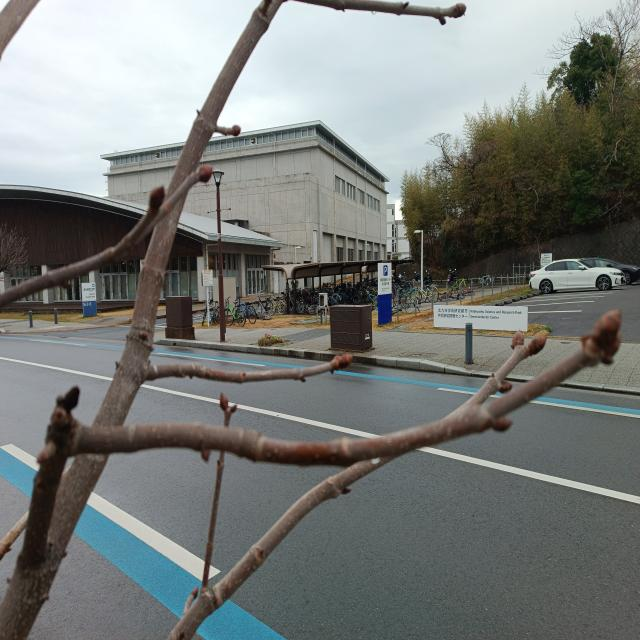Twig: (3, 0, 452, 640), (22, 328, 618, 564), (167, 341, 542, 639), (3, 170, 207, 304), (152, 353, 353, 381)
